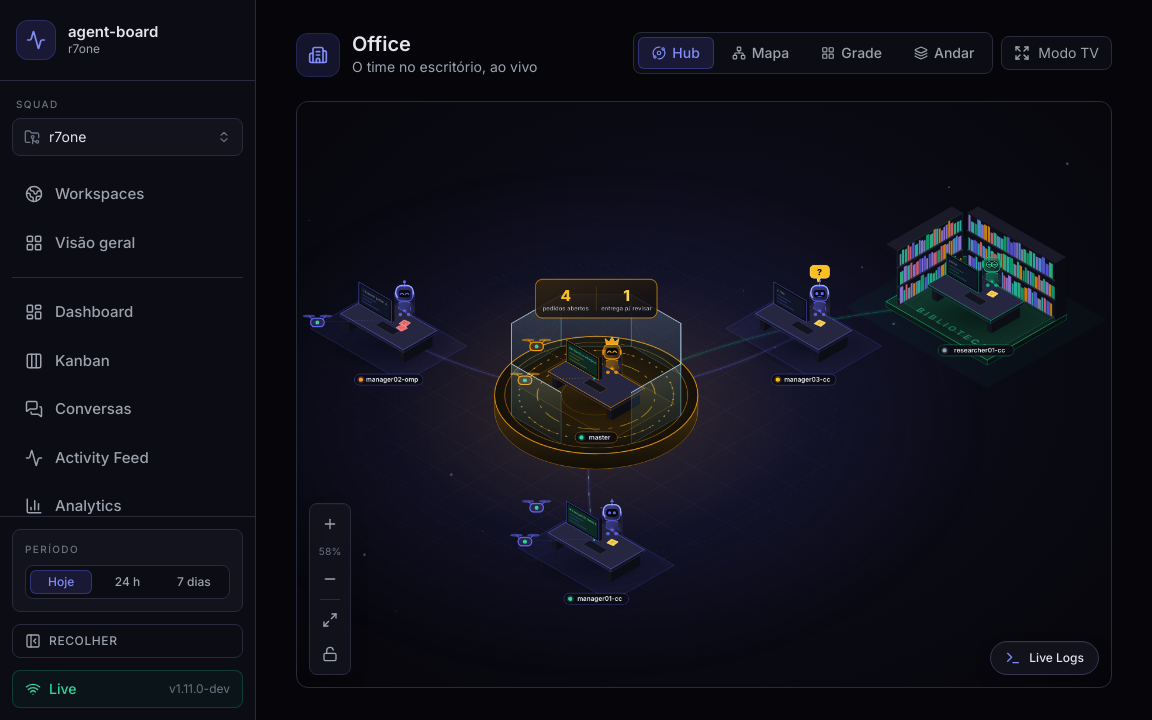
Test case: Office, modos, TV e Live Logs › Modo TV liga ?tv=1 e pede tela cheia
Click the button "Modo TV" at (1057, 53), box [1001,36,1112,70]
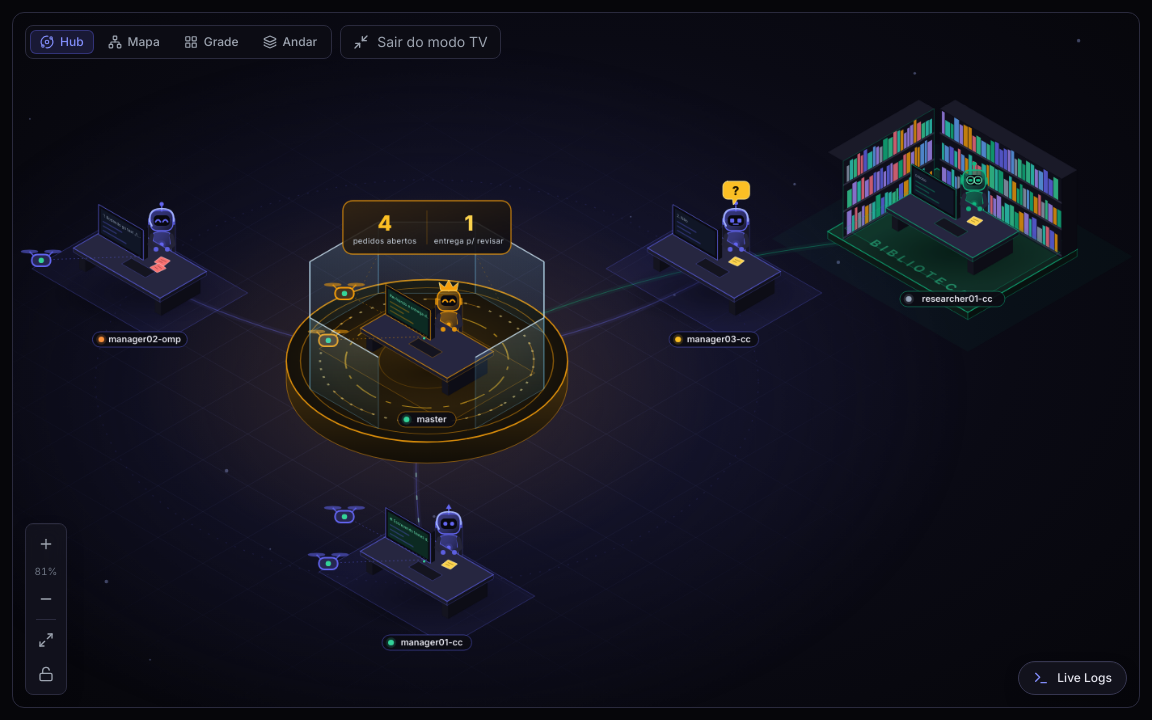
Now the button "Sair do modo TV" is shown
Click the button "Sair do modo TV" at (420, 42), box [340,25,501,59]
(page scrolled)
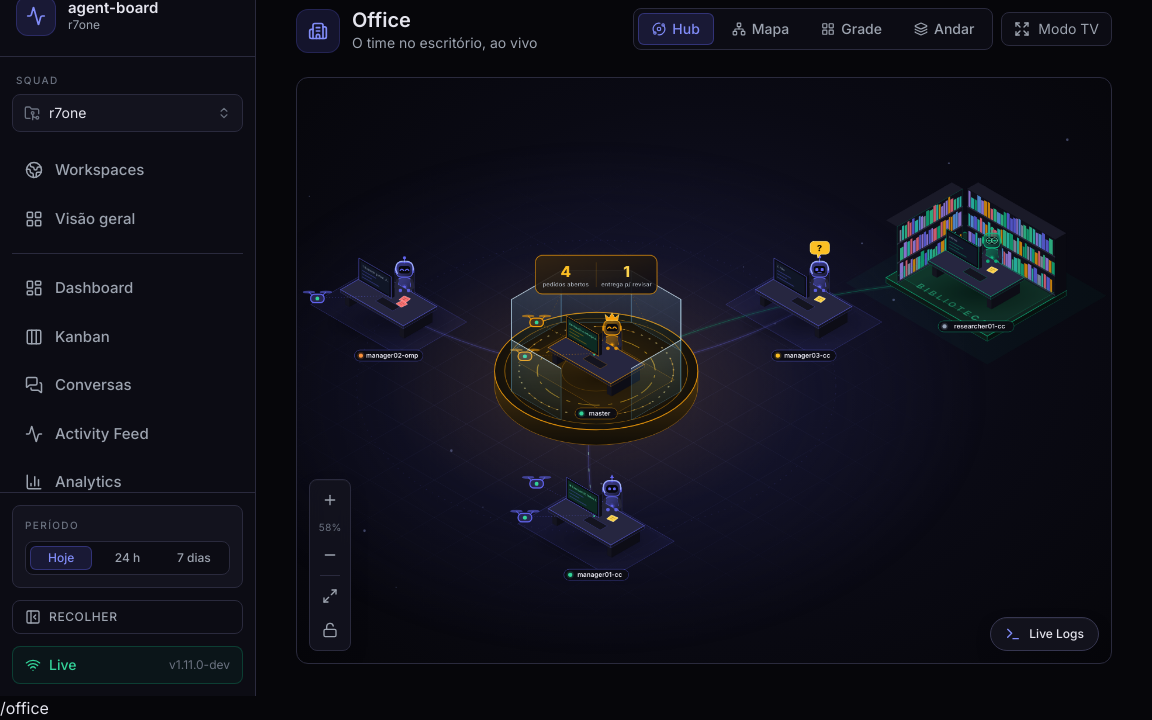
Now the text with test id "local" no longer shows "tv=1", box [0,698,49,718]
